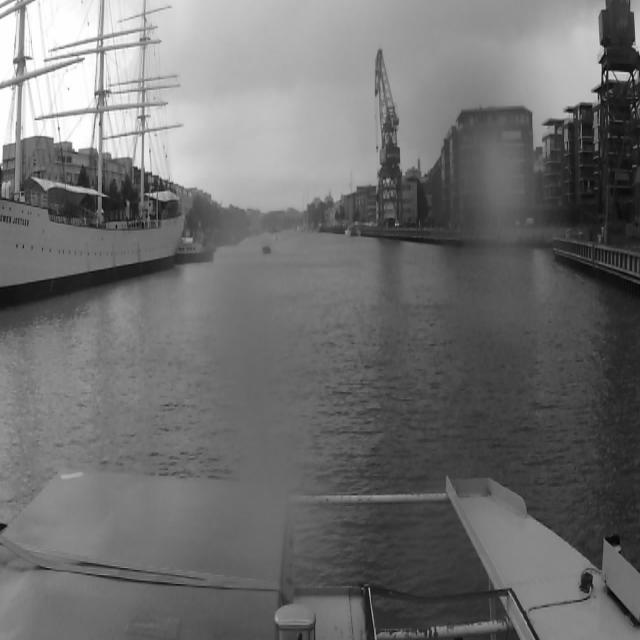ship: (0, 0, 186, 311), (344, 165, 362, 239), (261, 243, 271, 255)
